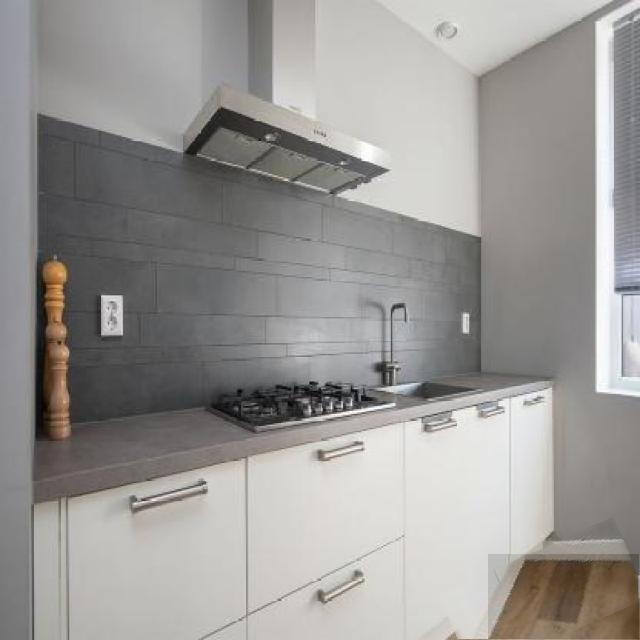floor: (489, 554, 639, 640)
